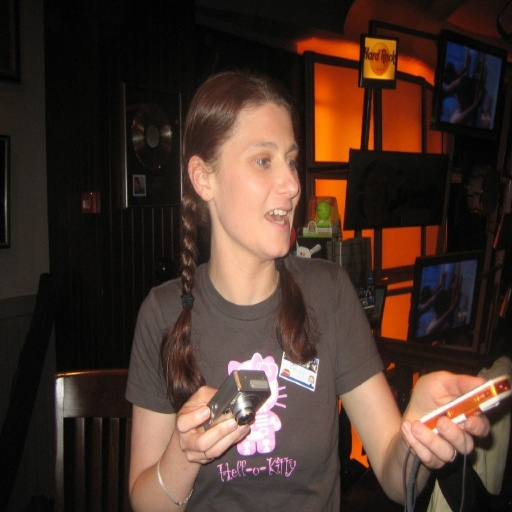hand: (399, 369, 491, 473), (179, 384, 248, 474)
